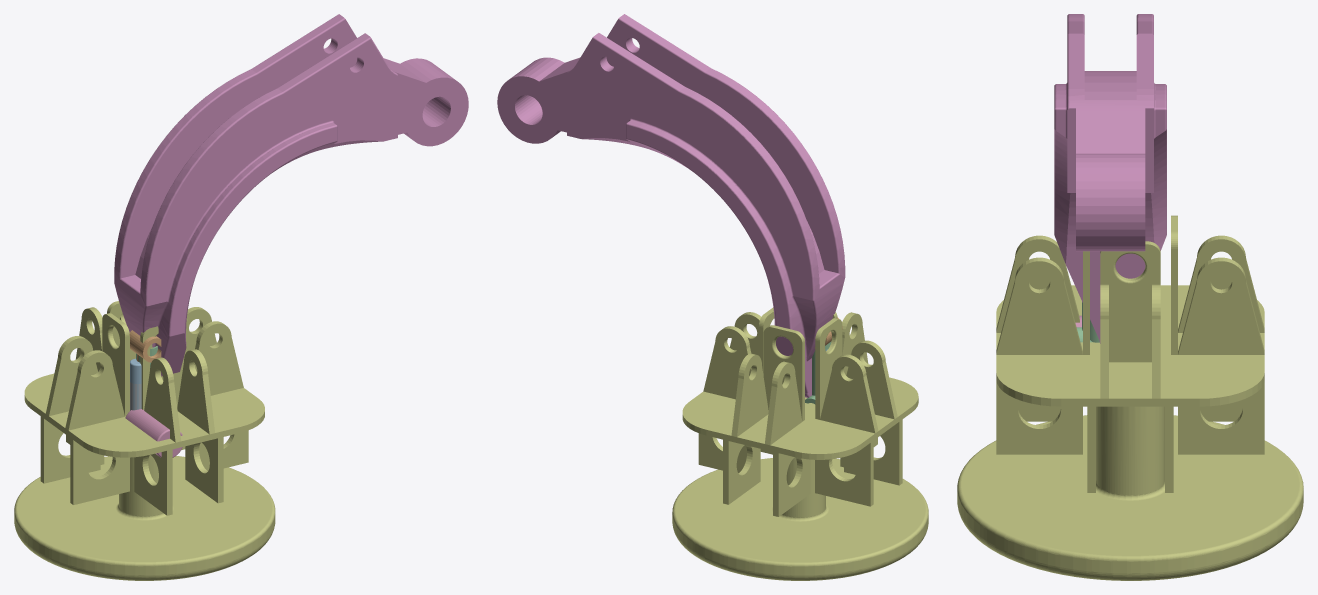
The model's file is case-03_gemini25.glb.
3 views of the same model, side by side, from view 1: azimuth 30°, elevation 25°; view 2: azimuth 150°, elevation 25°; view 3: azimuth 270°, elevation 25° (orthographic). The views are drawn at different scales.
Parts seen in each view (by area): view 1: c00001, c00002, c00007, c00003; view 2: c00001, c00002; view 3: c00001, c00002.
Part boxes in pixels (x1,y1,x2,y2): c00001: (14,301,275,580); c00002: (114,14,468,376); c00007: (125,409,182,457); c00003: (129,330,161,362); c00001: (672,307,928,580); c00002: (497,14,845,397); c00001: (957,215,1303,580); c00002: (1054,14,1166,343).
Bounding box in the file's own units: 1473 × 1553 × 800.
